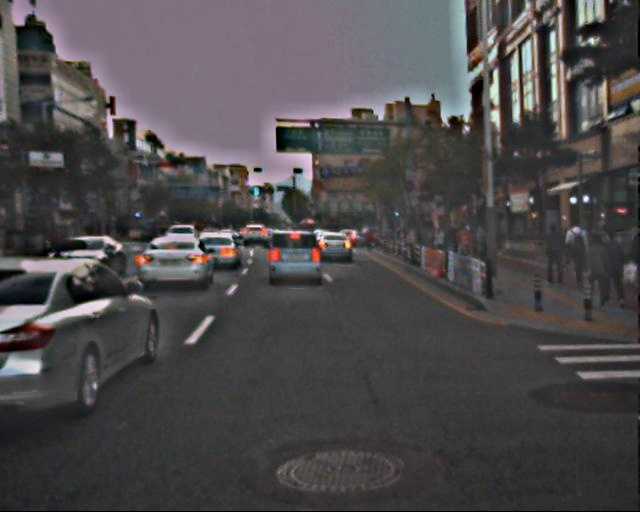person: (594, 228, 628, 310), (428, 225, 490, 267), (580, 234, 610, 306), (561, 216, 590, 286), (538, 223, 564, 287), (623, 222, 640, 292)
